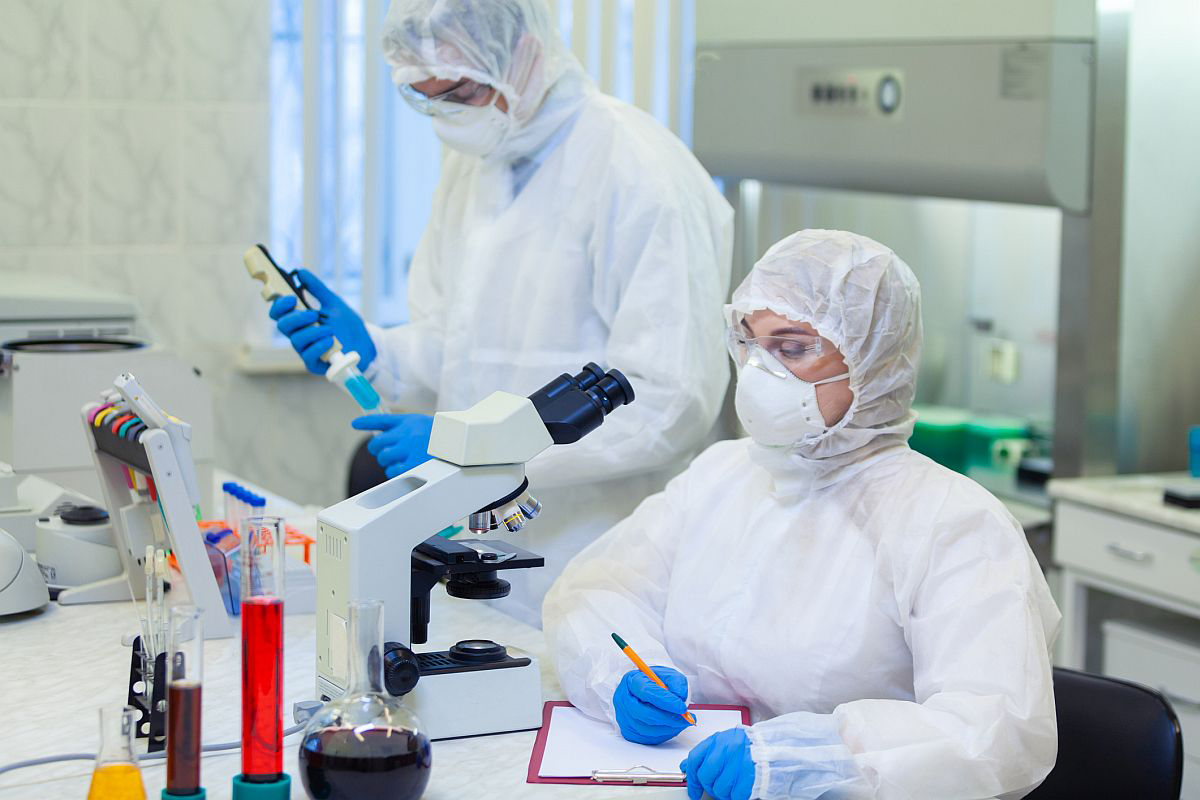Coverall: (539, 228, 1058, 793), (364, 2, 737, 477)
Gloves: (269, 266, 383, 386), (615, 668, 689, 745), (350, 412, 433, 478), (686, 728, 755, 796)
Goggles: (722, 327, 831, 370), (396, 79, 497, 122)
with_mask: (736, 346, 828, 446), (428, 94, 514, 154)
